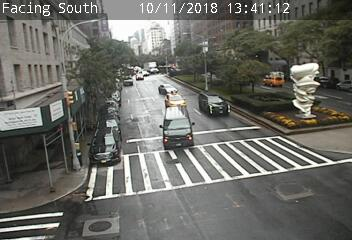car: (163, 107, 193, 149), (90, 128, 121, 164), (198, 92, 230, 116), (164, 93, 186, 107), (262, 75, 284, 87), (158, 84, 177, 95)
